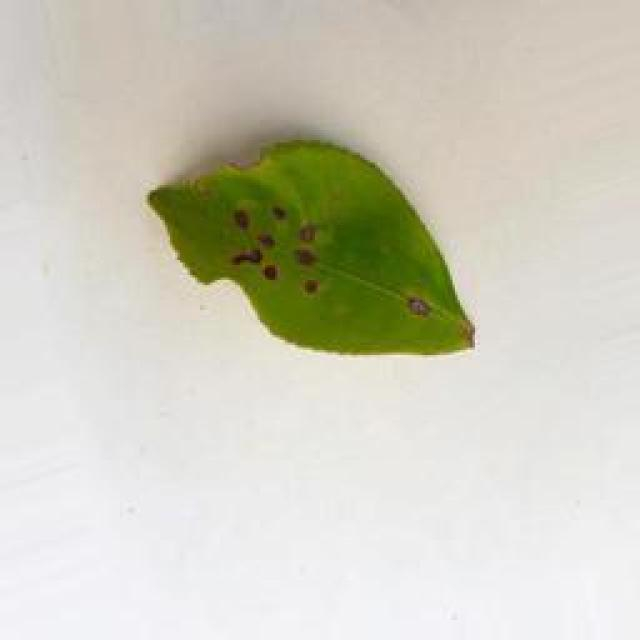Helopeltis: (131, 136, 480, 374)
